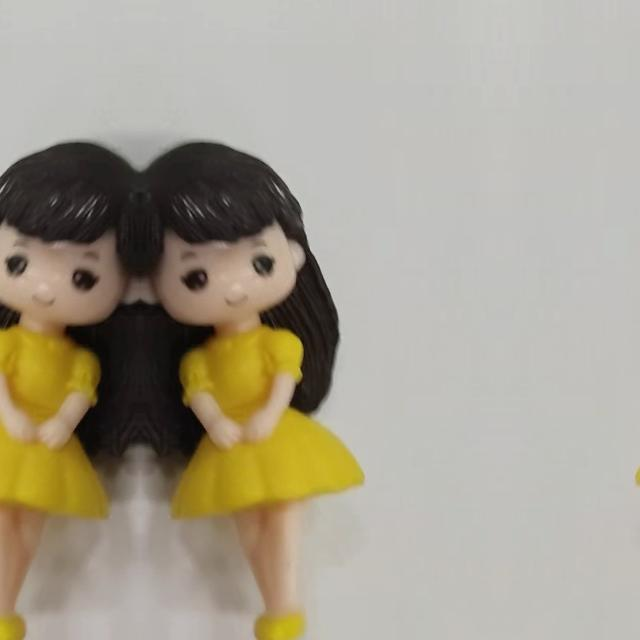woman dress: (166, 299, 374, 639), (0, 299, 114, 639), (626, 299, 640, 639)
woman head: (144, 135, 332, 319), (0, 135, 136, 319)
